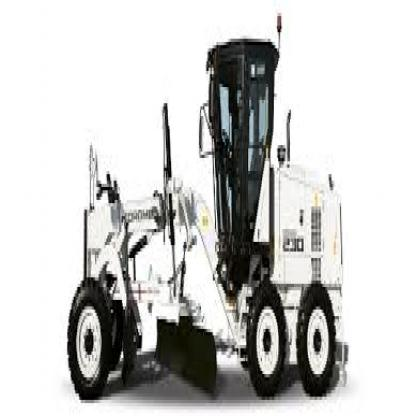bull_dozer/loader/grader: (55, 19, 350, 413)
